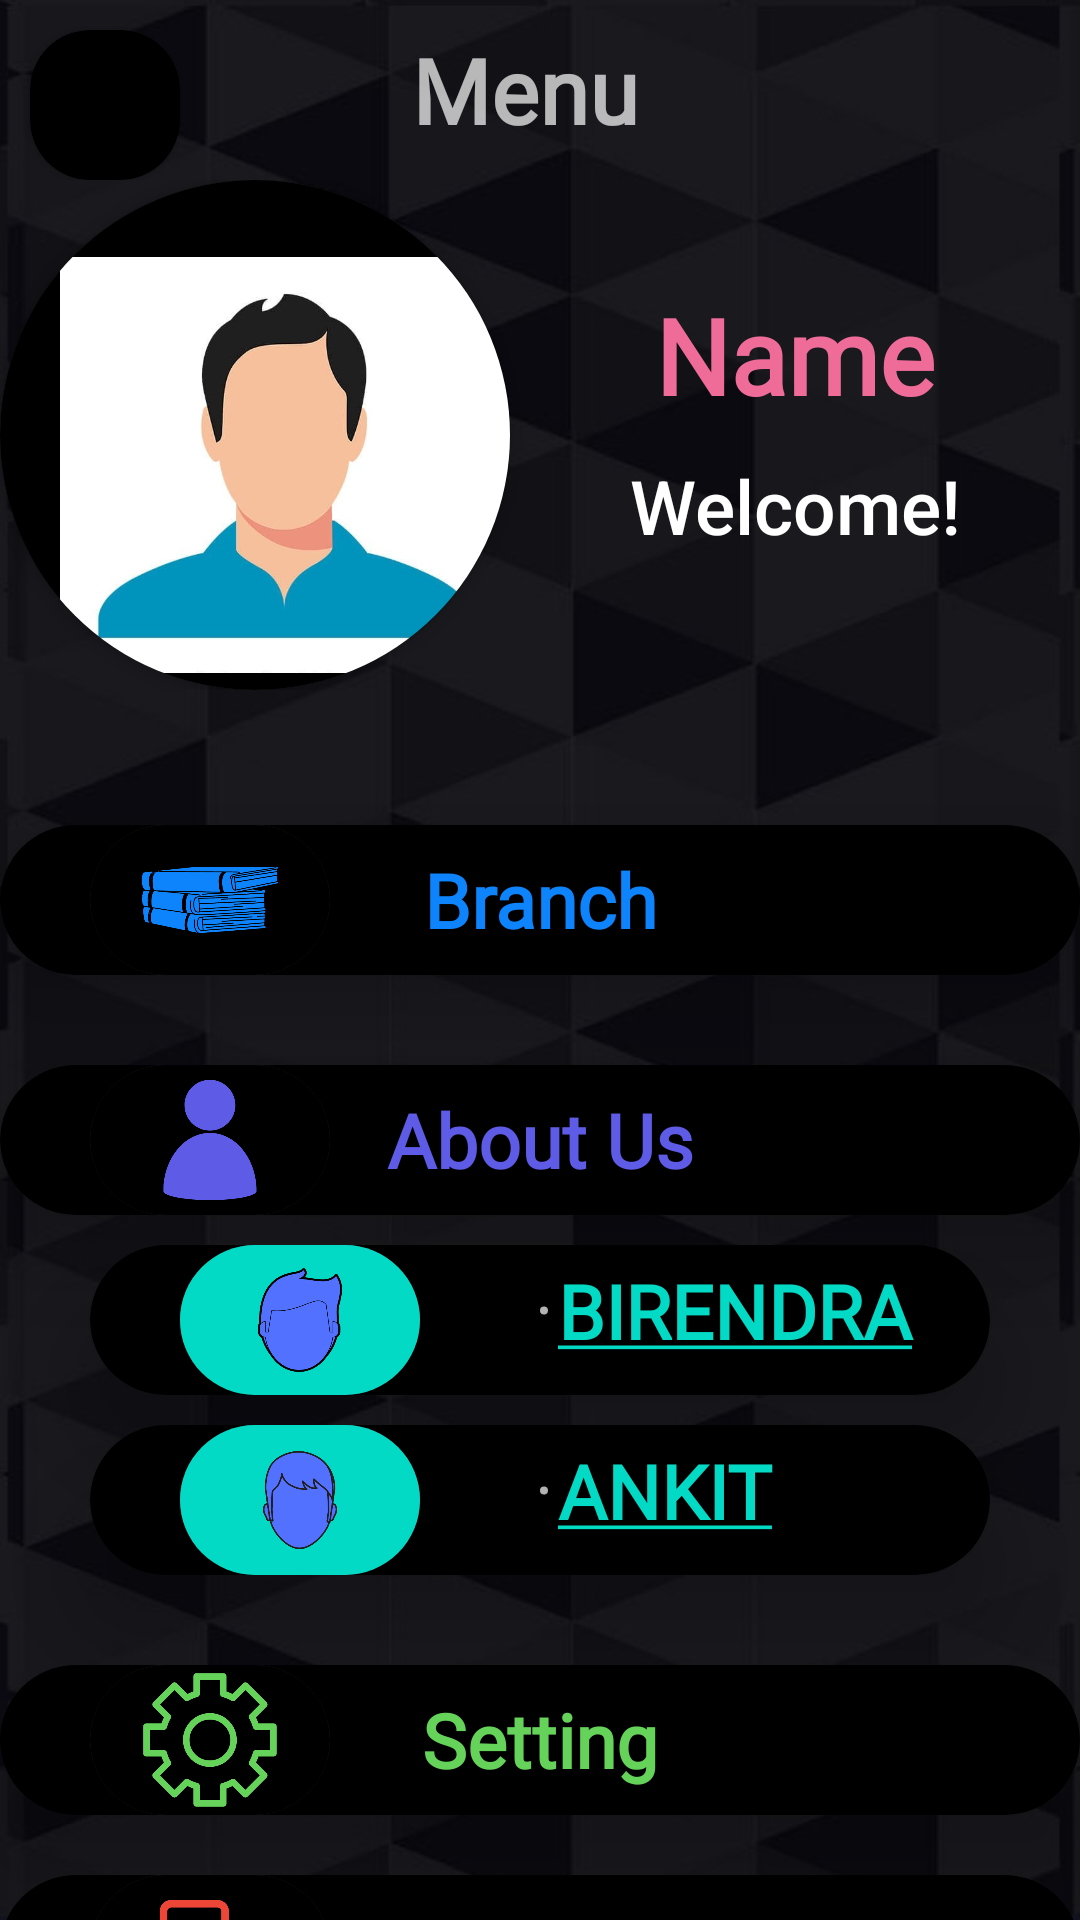

Where icons sit on this 1080×1920 app screen, as [x1=x1, y1=y1, x2=x2, y2=y2]:
class: [x1=142, y1=867, x2=278, y2=933]
